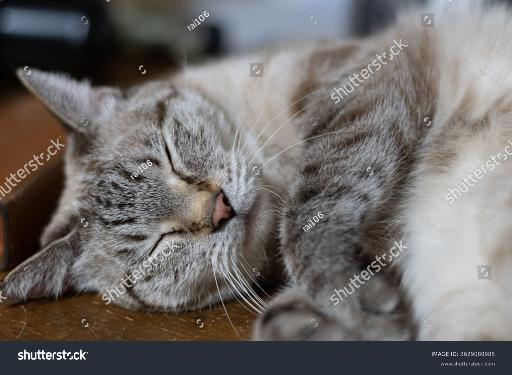cat_sleeping: (0, 0, 512, 341)
